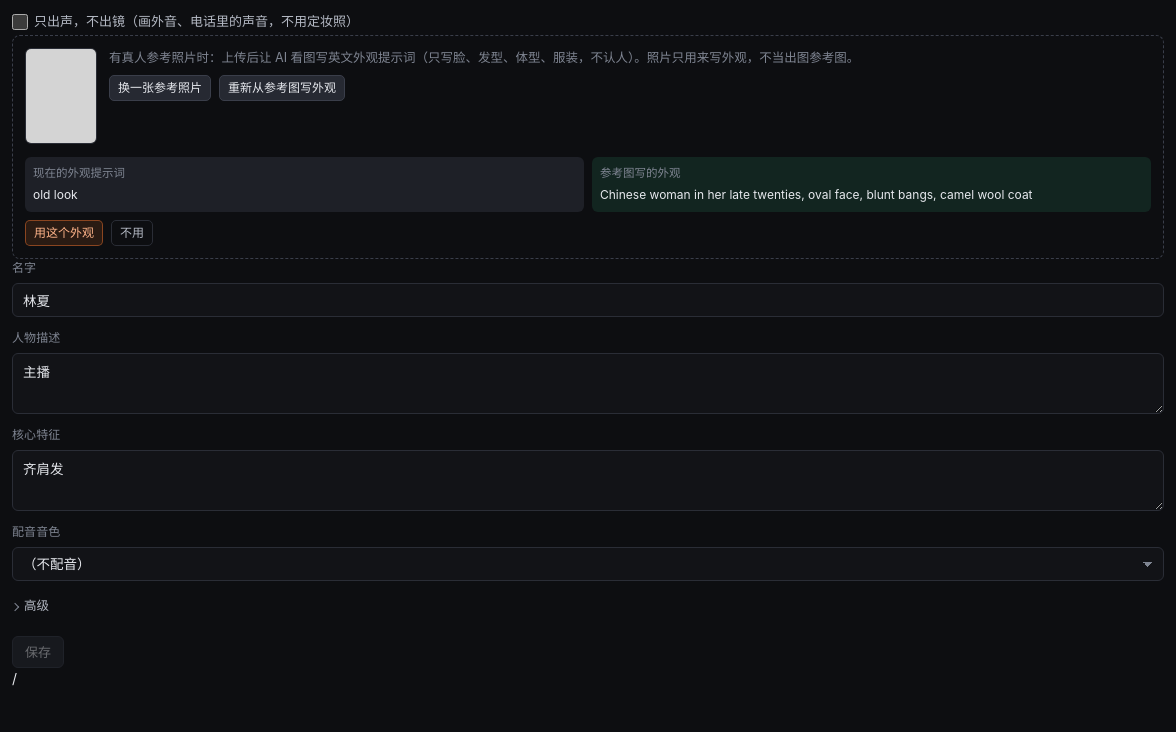
Test case: 从参考图写外观 › 资料有没保存的修改时不直接填入，先提示保存或撤销
Type "（夜班）" into the text box labelled "人物描述" at (588, 384), box [12,353,1164,414]
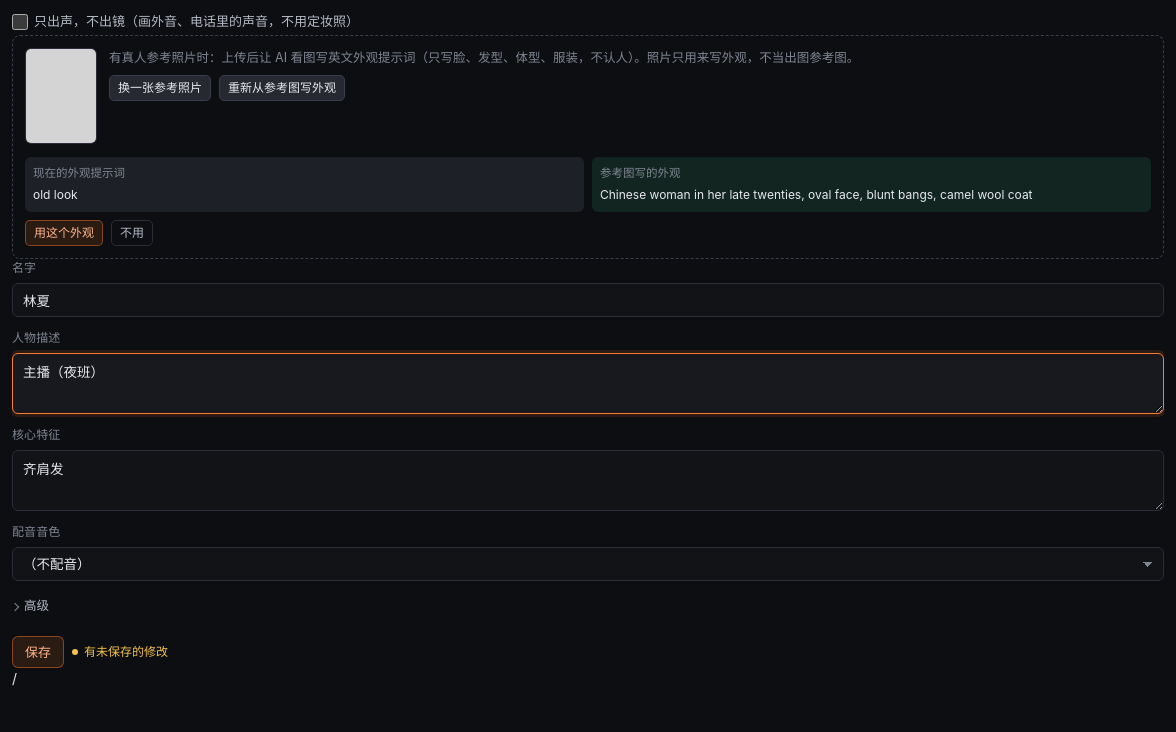
Click the button "用这个外观" at (64, 233), box [25,220,103,246]
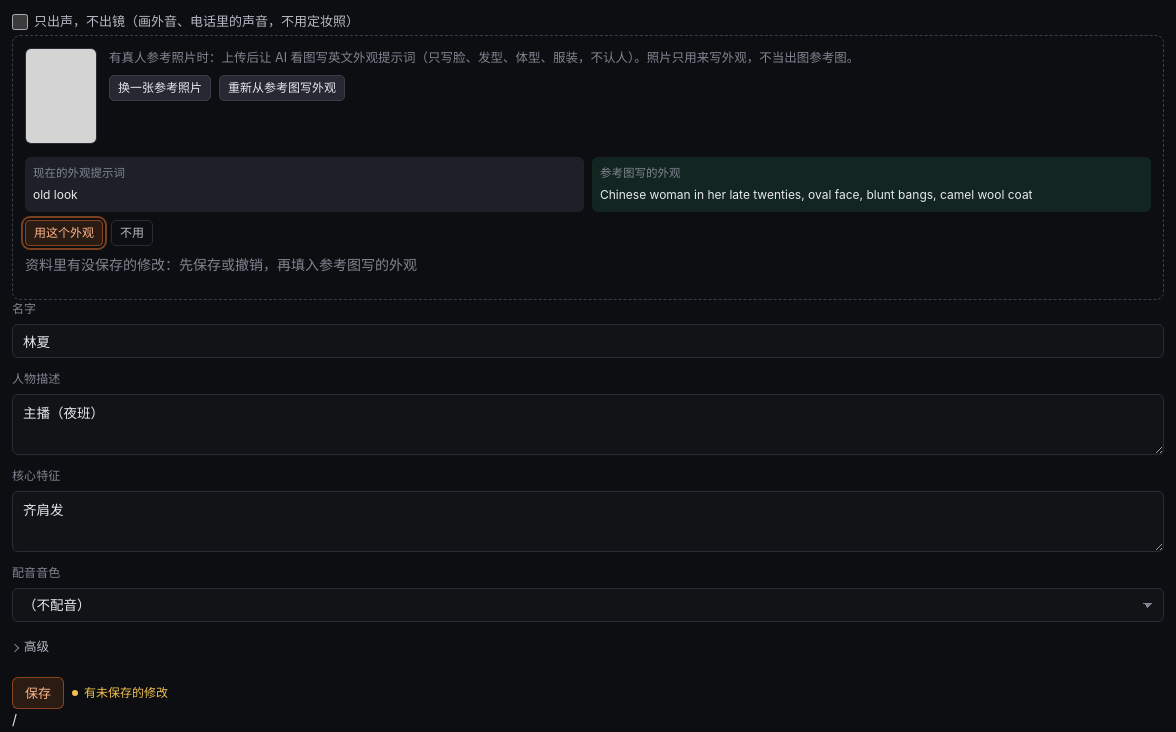
Result: the message shows "先保存或撤销" at [25,256,417,273]
